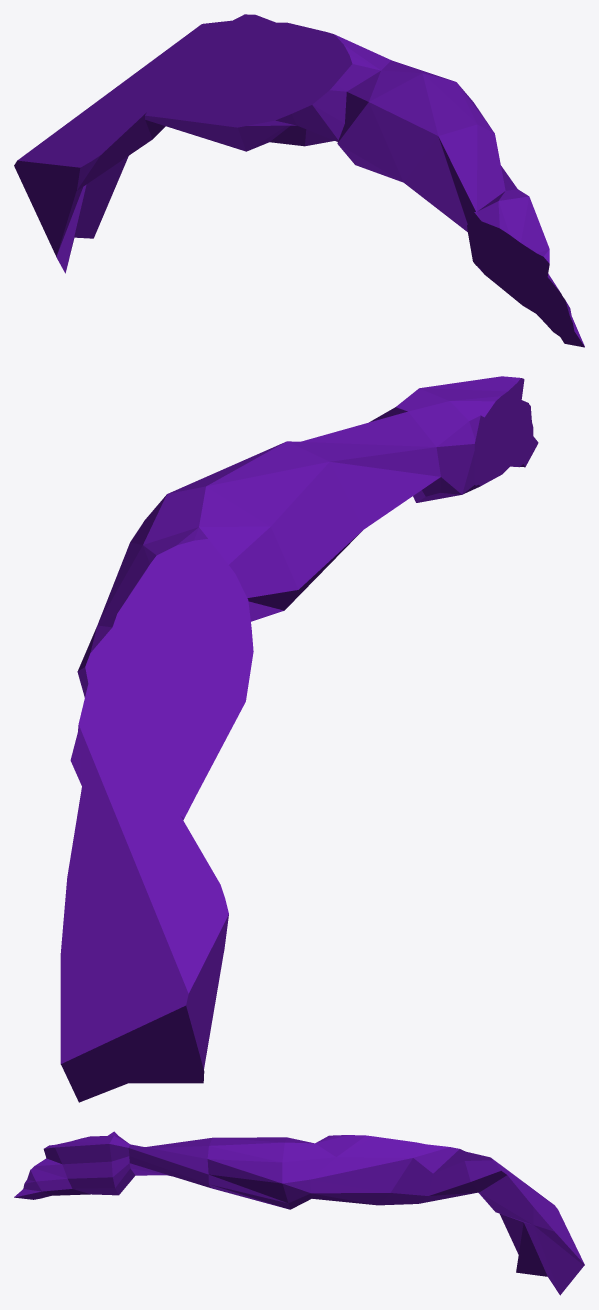
File: TheMan_9_chunks.fbx
3 renders of one model, top to bottom at view 1: azimuth 30°, elevation 25°; view 2: azimuth 150°, elevation 25°; view 3: azimuth 270°, elevation 25°, orthographic. The views are drawn at different scales.
Visible parts, largest first — view 1: TheMan_9_6, TheMan_9_1, TheMan_9_3, TheMan_9_5, TheMan_9_2, TheMan_9_4, TheMan_9_0; view 2: TheMan_9_6, TheMan_9_3, TheMan_9_1, TheMan_9_5, TheMan_9_2, TheMan_9_0, TheMan_9_4; view 3: TheMan_9_1, TheMan_9_3, TheMan_9_6, TheMan_9_5, TheMan_9_4, TheMan_9_0.
Part boxes in pixels (box(x1,y1,x2,y2)): TheMan_9_6: box(14, 30, 276, 242); TheMan_9_1: box(380, 88, 584, 347); TheMan_9_3: box(242, 20, 476, 143); TheMan_9_5: box(194, 14, 290, 143); TheMan_9_2: box(343, 127, 383, 173); TheMan_9_4: box(268, 108, 477, 169); TheMan_9_0: box(46, 230, 74, 273); TheMan_9_6: box(60, 679, 247, 1102); TheMan_9_3: box(99, 473, 303, 690); TheMan_9_1: box(199, 376, 538, 566); TheMan_9_5: box(70, 620, 143, 765); TheMan_9_2: box(300, 523, 341, 589); TheMan_9_0: box(145, 1023, 211, 1083); TheMan_9_4: box(249, 576, 304, 621); TheMan_9_1: box(14, 1131, 263, 1202); TheMan_9_3: box(262, 1135, 432, 1194); TheMan_9_6: box(462, 1160, 584, 1295); TheMan_9_5: box(350, 1145, 502, 1205); TheMan_9_4: box(263, 1176, 374, 1209); TheMan_9_0: box(513, 1242, 540, 1275).
Size of the model in its own units: 342 by 391 by 1068.
